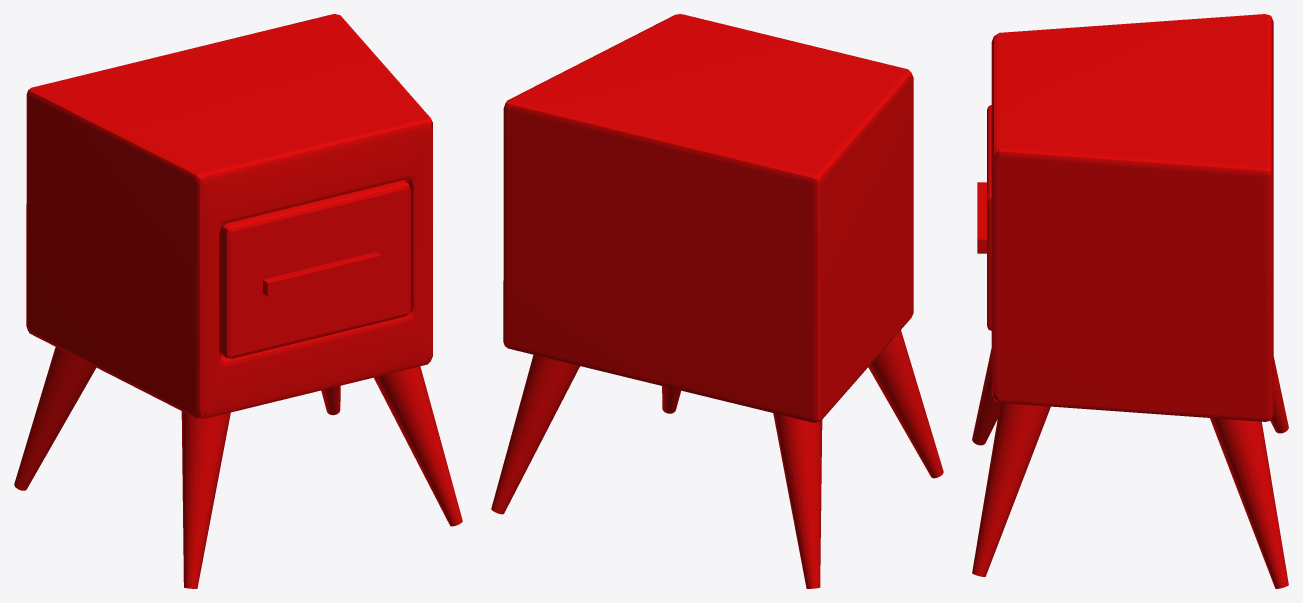
Rendered from FurnitureA_msh.fbx.
3 renders of one model, left to right at view 1: azimuth 30°, elevation 25°; view 2: azimuth 150°, elevation 25°; view 3: azimuth 270°, elevation 25°, orthographic. The views are drawn at different scales.
Parts seen in each view (by area): view 1: CaseA_msh, DrawerA_msh; view 2: CaseA_msh; view 3: CaseA_msh, DrawerA_msh.
Part boxes in pixels (x1,y1,x2,y2): CaseA_msh: [14, 14, 462, 588]; DrawerA_msh: [219, 180, 410, 358]; CaseA_msh: [491, 14, 943, 588]; CaseA_msh: [972, 14, 1288, 588]; DrawerA_msh: [977, 105, 991, 330].
Bounding box in the file's own units: 68.66 × 82.11 × 56.12.
